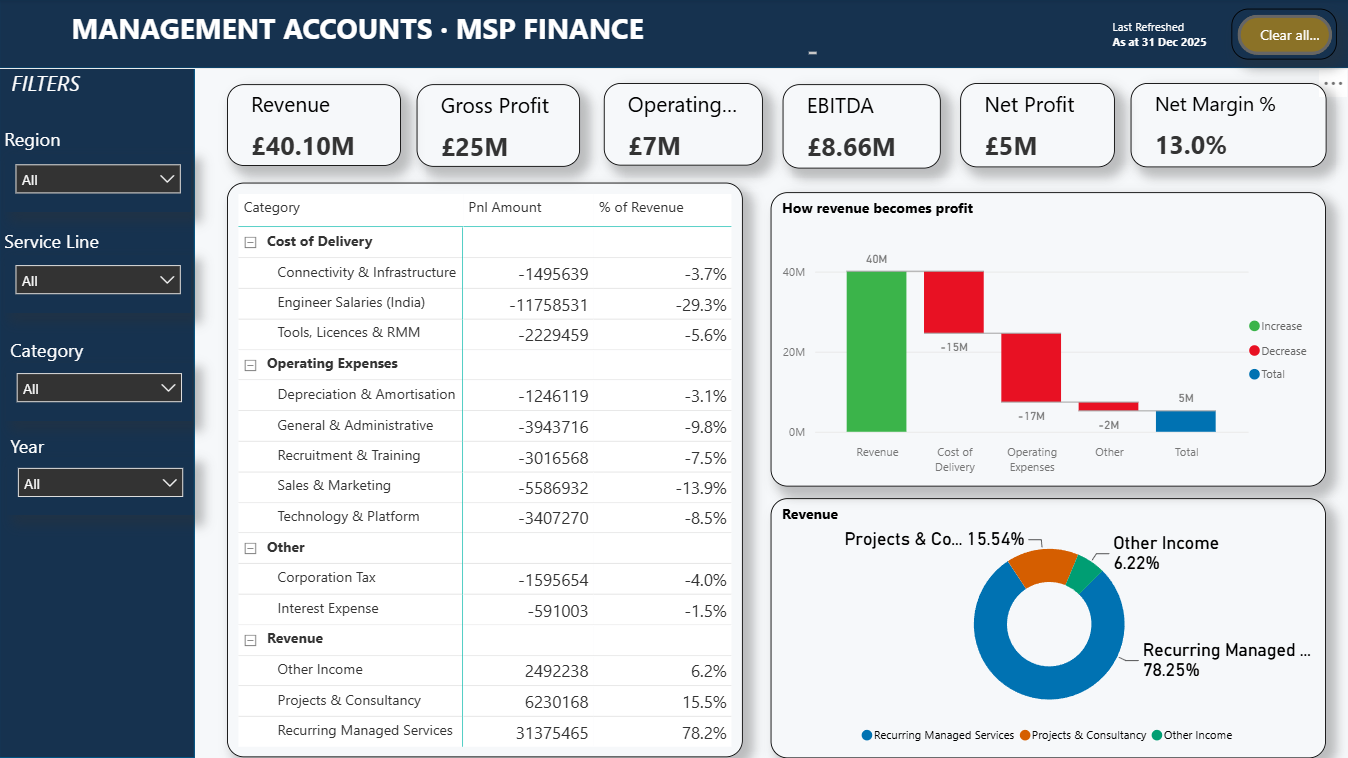

Layout of this report page (visuals, bound fields, positions):
{"tool":"powerbi","page":{"name":"P&L / Management","canvas":[1280,720],"ordinal":1},"visuals":[{"type":"shape","box":[0,0,216.9,700.1],"z":0},{"type":"shape","box":[0,0,1280.6,61.9],"z":1000},{"type":"cardVisual","fields":{"Data":["_Measures.Revenue (Allo)"]},"box":[246.2,70.7,205,80.1],"z":2000},{"type":"textbox","title":"RVS iGlobal · Management Accounts","box":[0,9.1,719.2,52.3],"z":3000},{"type":"cardVisual","fields":{"Data":["_Measures.Gross Profit"]},"box":[467.7,70.7,208.5,80.1],"z":4000},{"type":"cardVisual","fields":{"Data":["_Measures.EBITA %"]},"box":[917.7,69.5,156.7,80.1],"z":5000},{"type":"cardVisual","fields":{"Data":["_Measures.Net Profit (Pnl)"]},"box":[1083.8,69.5,187.3,80.1],"z":6000},{"type":"cardVisual","fields":{"Data":["_Measures.Gross Margin %"]},"box":[690,70.8,209,79.8],"z":7000},{"type":"textbox","title":"P&L Waterfall · Revenue to Net Profit","box":[994,182.6,267,32.4],"z":8000},{"type":"waterfallChart","title":"P&L WATERFALL REVENUE TO EBITDA","fields":{"Category":["dim_PnLCategory.PnL Category (ordered)"],"Y":["_Measures.Total PnL"]},"box":[752,168.4,518.9,270.8],"z":9000,"group":"g1"},{"type":"donutChart","fields":{"Category":["fct_pnl.Line_Item"],"Y":["_Measures.Revenue (Pnl)"]},"box":[752.2,449.5,521.2,249.2],"z":9000},{"type":"group","id":"g1","title":"Group 1","box":[752,168.4,518.9,270.8],"z":10000},{"type":"pivotTable","fields":{"Rows":["fct_pnl.Category","fct_pnl.Line_Item"],"Values":["_Measures.Total PnL","_Measures.% of Category Rev"]},"box":[245.8,165,489.3,533.7],"z":11000},{"type":"actionButton","title":"Margin Story","box":[1199.2,5.7,32.7,33.9],"z":14000},{"type":"actionButton","box":[1240.5,9.2,26.3,26.3],"z":15000},{"type":"pageNavigator","box":[10.1,70.8,196.7,280.9],"z":16000}]}

Visuals, with their boxes in screenshot pixels (x1, y1, x2, y2), scaled from the page's 1280x720 canvas onto the 1348x758 screenshot:
shape: pyautogui.locateOnScreen(0, 0, 228, 737)
shape: pyautogui.locateOnScreen(0, 0, 1347, 65)
cardVisual - _Measures.Revenue (Allo): pyautogui.locateOnScreen(259, 74, 475, 159)
"RVS iGlobal · Management Accounts" textbox: pyautogui.locateOnScreen(0, 10, 757, 65)
cardVisual - _Measures.Gross Profit: pyautogui.locateOnScreen(493, 74, 712, 159)
cardVisual - _Measures.EBITA %: pyautogui.locateOnScreen(966, 73, 1131, 157)
cardVisual - _Measures.Net Profit (Pnl): pyautogui.locateOnScreen(1141, 73, 1339, 157)
cardVisual - _Measures.Gross Margin %: pyautogui.locateOnScreen(727, 75, 947, 159)
"P&L Waterfall · Revenue to Net Profit" textbox: pyautogui.locateOnScreen(1047, 192, 1328, 226)
"P&L WATERFALL REVENUE TO EBITDA" waterfallChart: pyautogui.locateOnScreen(792, 177, 1338, 462)
donutChart - fct_pnl.Line_Item x _Measures.Revenue (Pnl): pyautogui.locateOnScreen(792, 473, 1341, 736)
"Group 1" group: pyautogui.locateOnScreen(792, 177, 1338, 462)
pivotTable - fct_pnl.Category x fct_pnl.Line_Item: pyautogui.locateOnScreen(259, 174, 774, 736)
"Margin Story" actionButton: pyautogui.locateOnScreen(1263, 6, 1297, 42)
actionButton: pyautogui.locateOnScreen(1306, 10, 1334, 37)
pageNavigator: pyautogui.locateOnScreen(11, 75, 218, 370)
